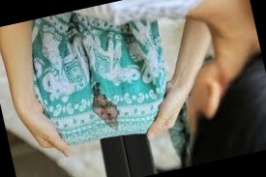blood: (89, 87, 123, 134)
